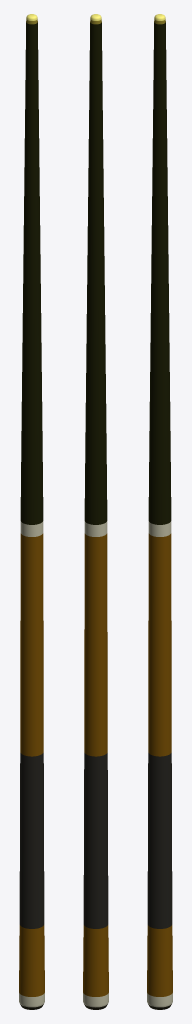
The model's file is cues.fbx.
The picture shows the model from 3 angles, left to right: view 1: azimuth 90°, elevation 25°; view 2: azimuth 150°, elevation 25°; view 3: azimuth 270°, elevation 25°; orthographic projection.
Visible parts, largest first — view 1: pCylinder1; view 2: pCylinder1; view 3: pCylinder1.
Boxes of the visible parts, <box> form: pCylinder1: <box>19,14,44,1009</box>; pCylinder1: <box>83,14,108,1009</box>; pCylinder1: <box>147,14,172,1009</box>.
Size of the model in its own units: 0.2874 by 11.96 by 0.2874.
